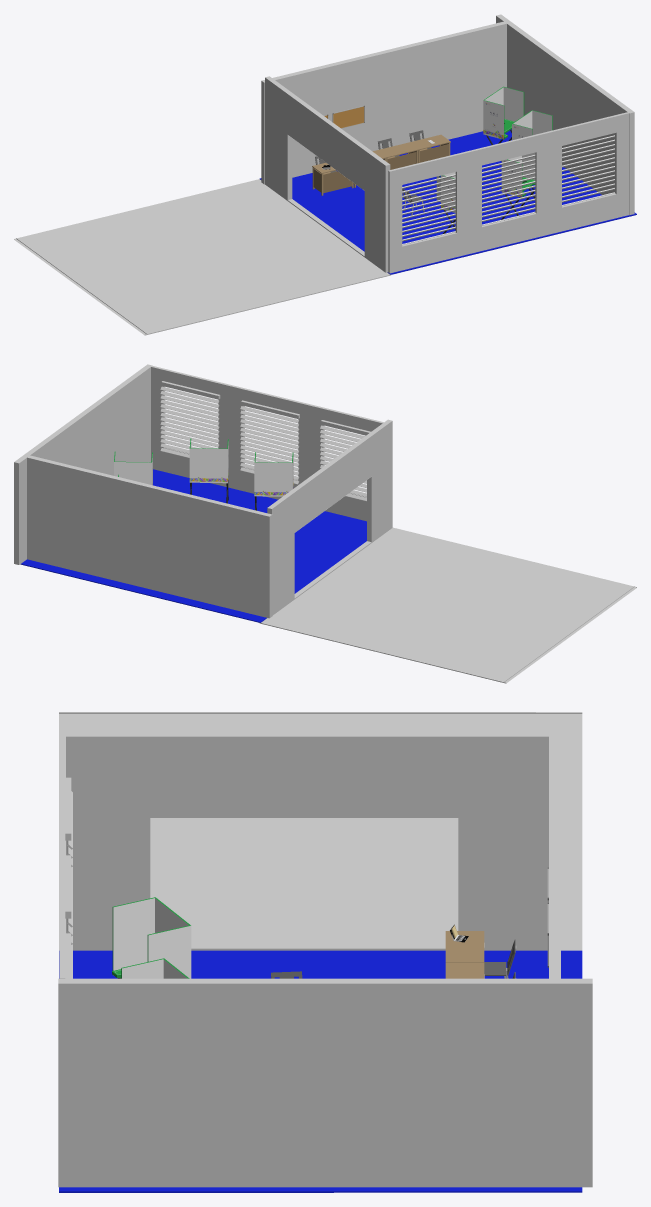
Rendered from mainVote.glb.
The picture shows the model from 3 angles, top to bottom: view 1: azimuth 30°, elevation 25°; view 2: azimuth 150°, elevation 25°; view 3: azimuth 270°, elevation 25°; orthographic projection. The views are drawn at different scales.
Parts seen in each view (by area): view 1: indoor_env.017, pollingBooth2, pollingBooth4, pollingBooth3, pollingBooth1; view 2: indoor_env.017, pollingBooth4, pollingBooth1, pollingBooth3; view 3: indoor_env.017, pollingBooth1, pollingBooth4.
Boxes of the visible parts, x1,y1,x2,y2 form: indoor_env.017: [14, 14, 636, 335]; pollingBooth2: [483, 86, 524, 161]; pollingBooth4: [501, 152, 535, 219]; pollingBooth3: [512, 110, 552, 189]; pollingBooth1: [441, 172, 455, 233]; indoor_env.017: [14, 364, 636, 683]; pollingBooth4: [189, 438, 228, 503]; pollingBooth1: [254, 452, 293, 510]; pollingBooth3: [114, 451, 152, 485]; indoor_env.017: [58, 712, 592, 1192]; pollingBooth1: [112, 897, 191, 978]; pollingBooth4: [121, 958, 189, 978].
Bounding box in the file's own units: 126 × 26.85 × 59.48.
Materials: 22 (19 with a texture image).
